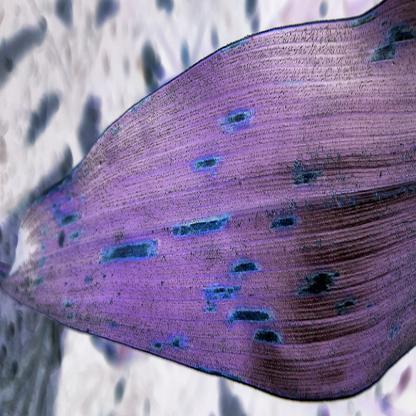Corn leaf blight: (12, 52, 416, 394)
